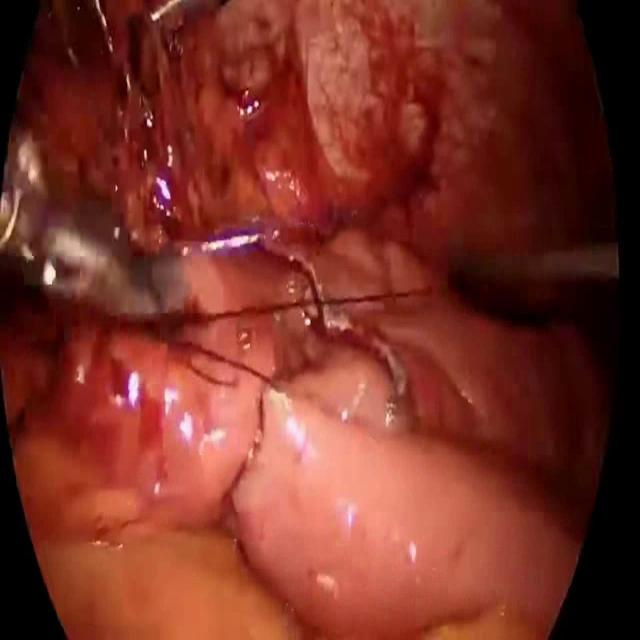surgical-area: (0, 0, 618, 639)
surgical-tool: (0, 132, 162, 321), (459, 242, 618, 322)
